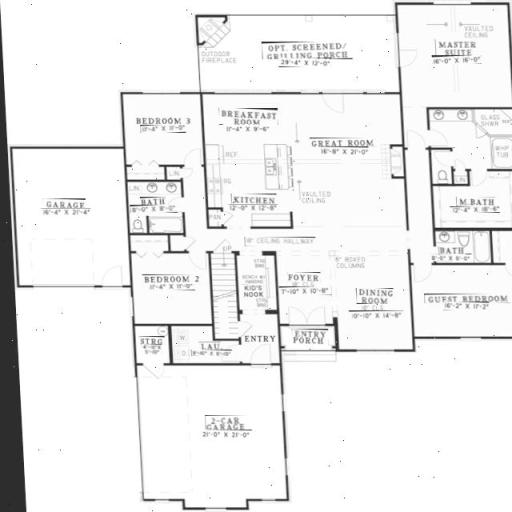Room: (401, 6, 506, 106), (335, 270, 411, 350)
bathroom: (426, 115, 507, 231), (414, 230, 503, 263)
bedroom: (412, 265, 510, 339), (135, 242, 208, 327), (126, 98, 197, 161)
garage: (139, 367, 280, 493), (18, 156, 122, 276)
hall: (301, 100, 400, 250)
kitchen: (206, 101, 291, 224)
porch: (210, 17, 389, 95), (291, 327, 332, 350)
